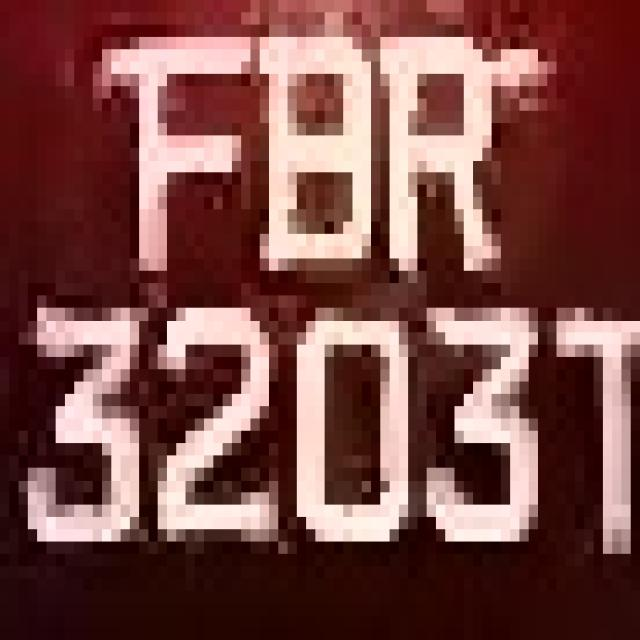0: (269, 295, 427, 554)
2: (139, 259, 288, 566)
3: (0, 258, 148, 566), (408, 271, 529, 554)
B: (222, 0, 390, 308)
F: (102, 37, 232, 295)
R: (362, 37, 519, 283)
T: (566, 283, 631, 566)
